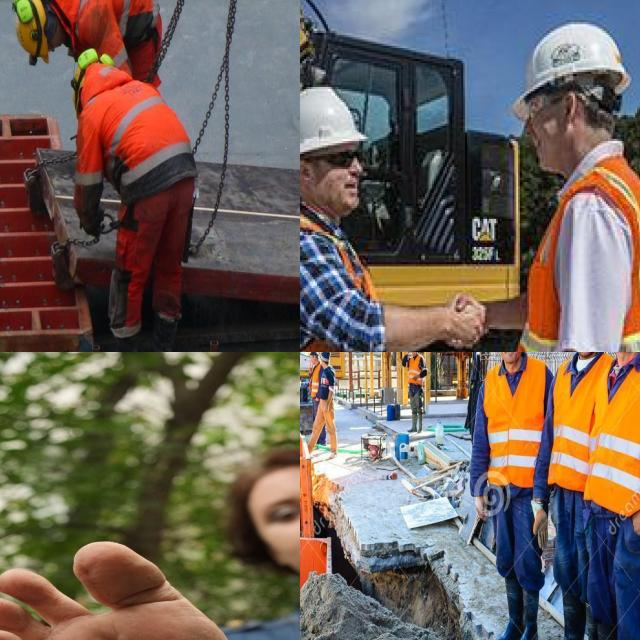Barefoots: (0, 541, 300, 640)
boots: (545, 576, 593, 640), (491, 576, 523, 640), (569, 607, 630, 640), (516, 577, 541, 640), (406, 414, 418, 432), (415, 416, 426, 434)
face_nomask: (520, 91, 584, 176), (308, 141, 370, 221)
glasses: (321, 144, 370, 175)
hand_glove: (528, 500, 552, 550)
hand_noglove: (439, 288, 492, 352), (468, 491, 494, 528)
head_helmet: (509, 22, 631, 122), (300, 84, 370, 160), (14, 0, 50, 64)
person: (506, 12, 640, 352), (73, 53, 198, 352), (300, 82, 401, 352), (479, 352, 550, 640), (549, 352, 600, 640), (13, 0, 159, 88), (603, 352, 640, 640), (400, 352, 430, 434), (315, 352, 338, 455), (300, 352, 321, 395)
vest: (534, 169, 640, 352), (81, 80, 191, 214), (300, 228, 385, 352), (42, 0, 163, 64), (549, 352, 604, 488), (483, 364, 543, 479), (601, 358, 640, 511), (405, 356, 427, 384), (310, 364, 321, 394)
